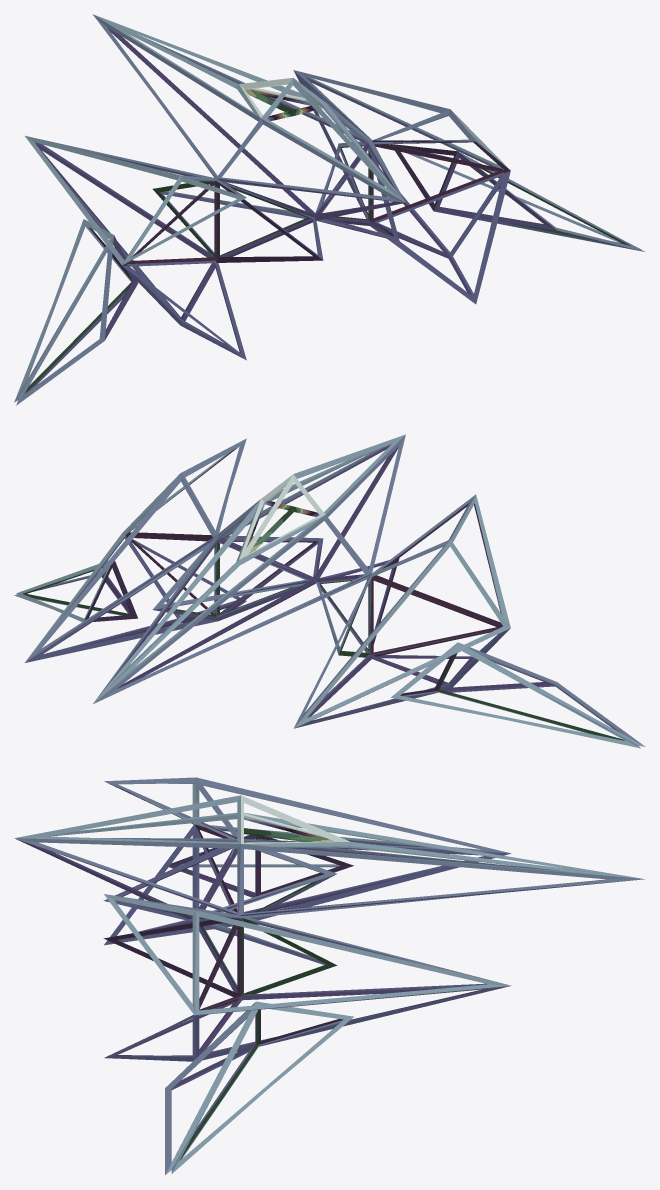
The model's file is Wyvern_wire.glb.
3 renders of one model, top to bottom at view 1: azimuth 30°, elevation 25°; view 2: azimuth 150°, elevation 25°; view 3: azimuth 270°, elevation 25°, orthographic.
Visible parts, largest first — view 1: Wyvern.001; view 2: Wyvern.001; view 3: Wyvern.001.
Part boxes in pixels (box(x1,y1,x2,y2)): Wyvern.001: box(14, 14, 644, 405); Wyvern.001: box(14, 434, 645, 748); Wyvern.001: box(14, 777, 644, 1174).
Bounding box in the file's own units: 3.28 × 1.11 × 2.83.
1 material, 1 textured.
